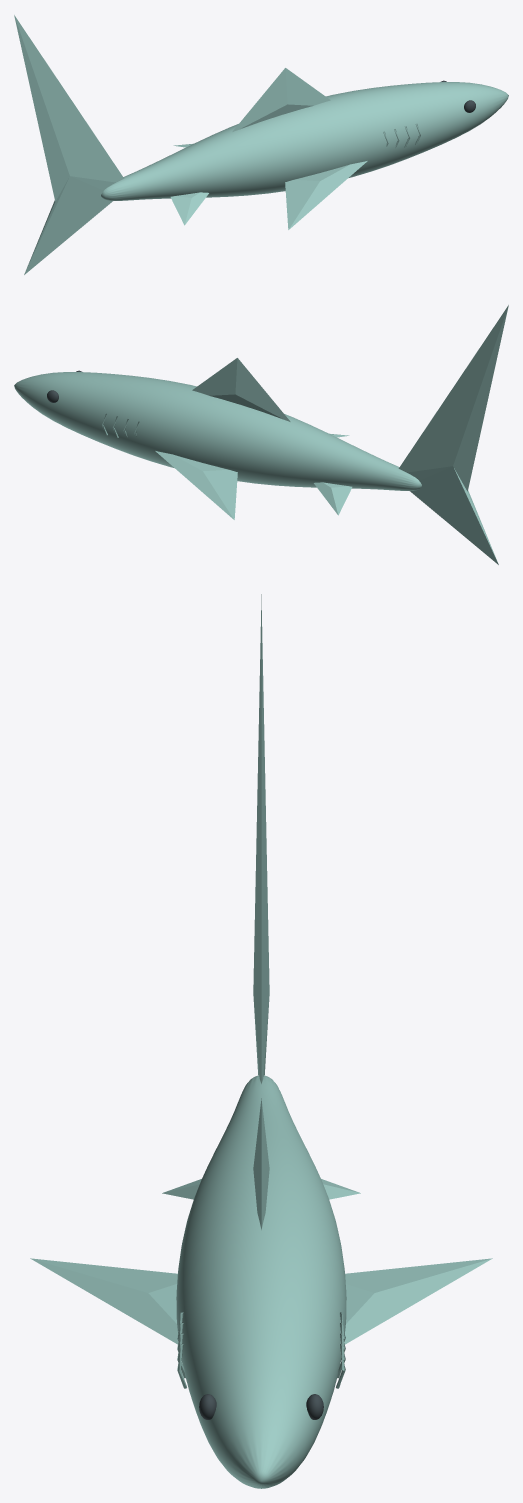
The picture shows the model from 3 angles, top to bottom: view 1: azimuth 30°, elevation 25°; view 2: azimuth 150°, elevation 25°; view 3: azimuth 270°, elevation 25°; orthographic projection. The views are drawn at different scales.
Parts seen in each view (by area): view 1: Body, Tail, Dorsal, Pectoral, Pelvic; view 2: Body, Tail, Dorsal, Pectoral.001, Pelvic.001; view 3: Body, Pectoral.001, Pectoral, Tail, Dorsal.
Part boxes in pixels (x1,y1,x2,y2): Body: [101, 82, 508, 200]; Tail: [14, 15, 124, 274]; Dorsal: [232, 68, 330, 131]; Pectoral: [285, 161, 367, 229]; Pelvic: [170, 192, 208, 225]; Body: [14, 372, 421, 490]; Tail: [398, 305, 508, 564]; Dorsal: [192, 358, 290, 421]; Pectoral.001: [155, 451, 237, 519]; Pelvic.001: [314, 482, 352, 515]; Body: [176, 1075, 346, 1488]; Pectoral.001: [344, 1258, 492, 1344]; Pectoral: [30, 1258, 178, 1344]; Tail: [253, 594, 269, 1083]; Dorsal: [253, 1098, 269, 1229].
Bounding box in the file's own units: 252 × 128 × 102.
